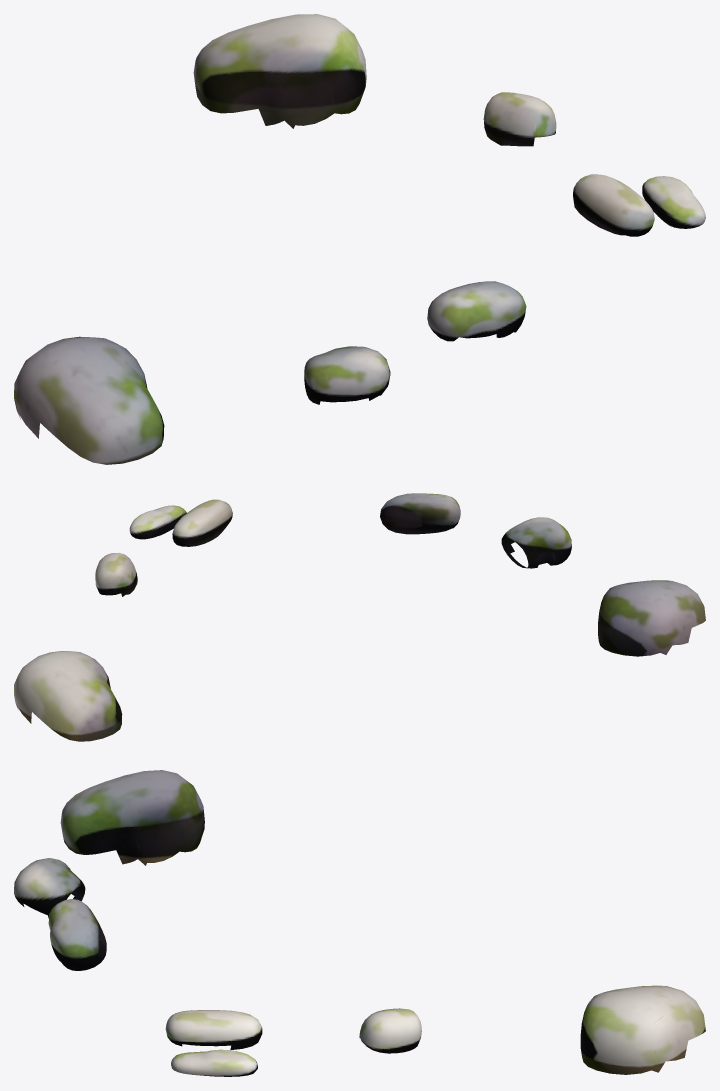
Rendered from rocks.glb.
The picture shows the model from 3 angles, top to bottom: view 1: azimuth 30°, elevation 25°; view 2: azimuth 150°, elevation 25°; view 3: azimuth 270°, elevation 25°; orthographic projection. The views are drawn at different scales.
Visible parts, largest first — view 1: Rock_1_Third_Raycaster_Hover, Rock_7_Third_Raycaster_Hover, Rock_5_Third_Raycaster_Hover, Rock_6_Third_Raycaster_Hover, Rock_4_Third_Raycaster_Hover, Rock_2_Third_Raycaster_Hover, Rock_3_Third_Raycaster_Hover; view 2: Rock_1_Third_Raycaster_Hover, Rock_7_Third_Raycaster_Hover, Rock_5_Third_Raycaster_Hover, Rock_6_Third_Raycaster_Hover, Rock_4_Third_Raycaster_Hover, Rock_2_Third_Raycaster_Hover, Rock_3_Third_Raycaster_Hover; view 3: Rock_7_Third_Raycaster_Hover, Rock_1_Third_Raycaster_Hover, Rock_5_Third_Raycaster_Hover, Rock_4_Third_Raycaster_Hover, Rock_6_Third_Raycaster_Hover, Rock_2_Third_Raycaster_Hover, Rock_3_Third_Raycaster_Hover.
Part boxes in pixels (box(x1,y1,x2,y2)): Rock_1_Third_Raycaster_Hover: box(193, 14, 366, 128); Rock_7_Third_Raycaster_Hover: box(14, 336, 164, 464); Rock_5_Third_Raycaster_Hover: box(427, 281, 526, 341); Rock_6_Third_Raycaster_Hover: box(304, 346, 390, 404); Rock_4_Third_Raycaster_Hover: box(573, 174, 654, 236); Rock_2_Third_Raycaster_Hover: box(483, 92, 556, 146); Rock_3_Third_Raycaster_Hover: box(642, 176, 705, 228); Rock_1_Third_Raycaster_Hover: box(14, 651, 122, 741); Rock_7_Third_Raycaster_Hover: box(598, 580, 705, 656); Rock_5_Third_Raycaster_Hover: box(380, 493, 460, 534); Rock_6_Third_Raycaster_Hover: box(501, 517, 571, 568); Rock_4_Third_Raycaster_Hover: box(172, 499, 232, 546); Rock_2_Third_Raycaster_Hover: box(95, 553, 137, 596); Rock_3_Third_Raycaster_Hover: box(129, 505, 186, 539); Rock_7_Third_Raycaster_Hover: box(60, 770, 204, 865); Rock_1_Third_Raycaster_Hover: box(580, 985, 705, 1074); Rock_5_Third_Raycaster_Hover: box(48, 899, 106, 970); Rock_4_Third_Raycaster_Hover: box(165, 1010, 262, 1050); Rock_6_Third_Raycaster_Hover: box(14, 858, 85, 918); Rock_2_Third_Raycaster_Hover: box(359, 1008, 421, 1053); Rock_3_Third_Raycaster_Hover: box(171, 1049, 257, 1076).
Size of the model in its own units: 10.96 by 1.53 by 11.15.
Materials: 1 (1 with a texture image).
